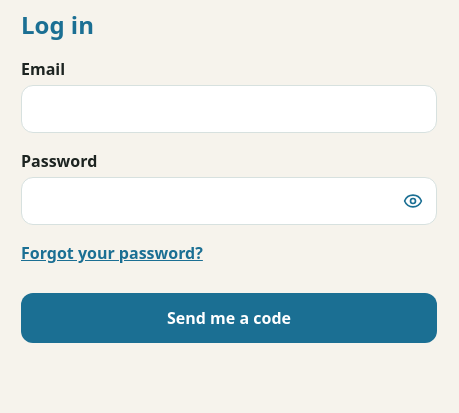
step 1: email and password › posts the email and password, then asks for the code and says where it was sent
The image size is (459, 413).
In the field labelled "Email": (229, 109) [21,85,437,133], type "ada@example.com"
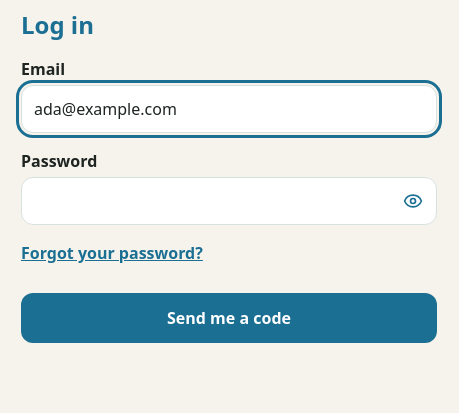
In the password field labelled "Password": (229, 201) [21,177,437,225], type "a-long-password"
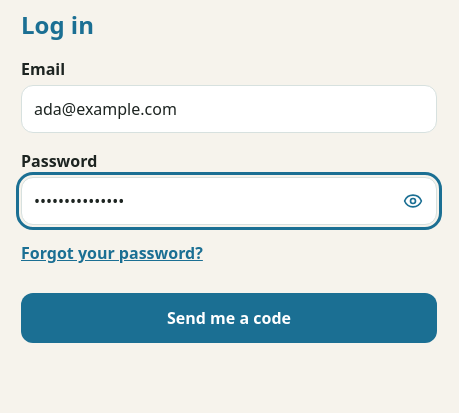
Click the button "Send me a code": (229, 318) [21,293,437,343]
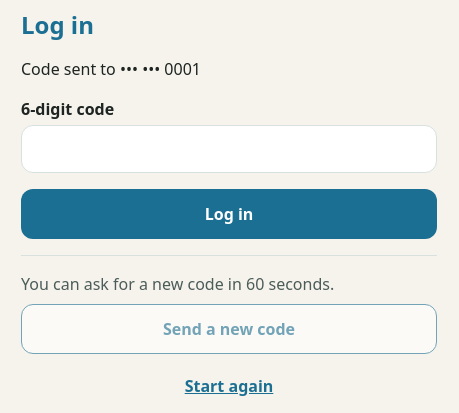
Result: the field labelled "6-digit code" is shown at [21,125,437,173]
Result: the text "Code sent to ••• ••• 0001" is shown at [21,58,201,80]
Result: the label labelled "Password" is gone
